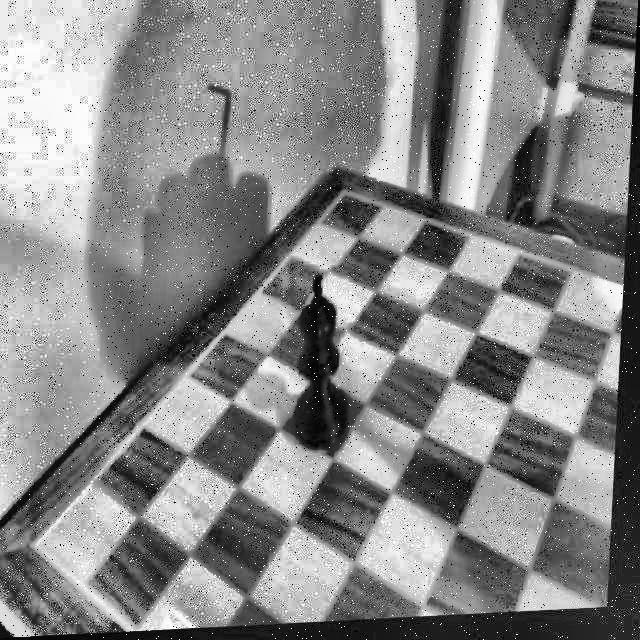black-king: (288, 270, 360, 461)
